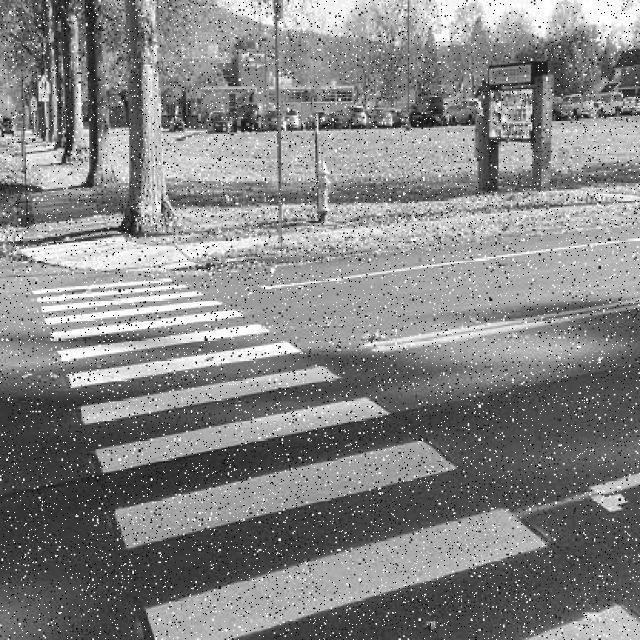crosswalk: (28, 277, 640, 640)
